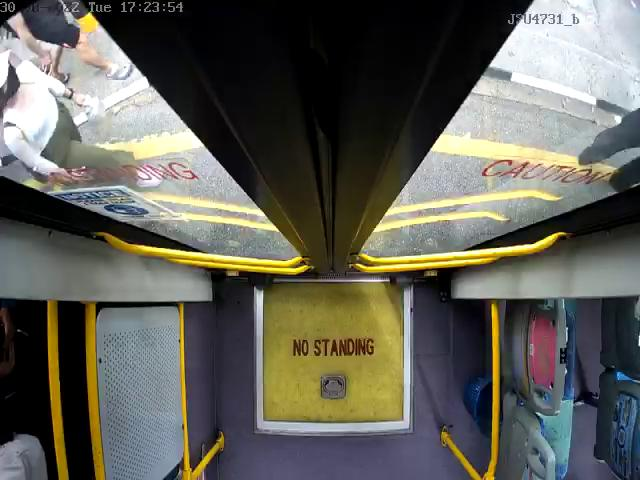close: (0, 0, 640, 110)
